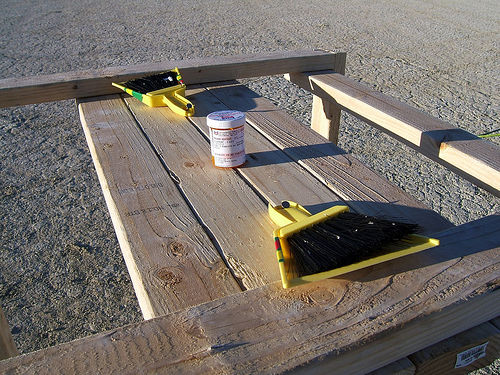pill bottle: (206, 108, 249, 172)
